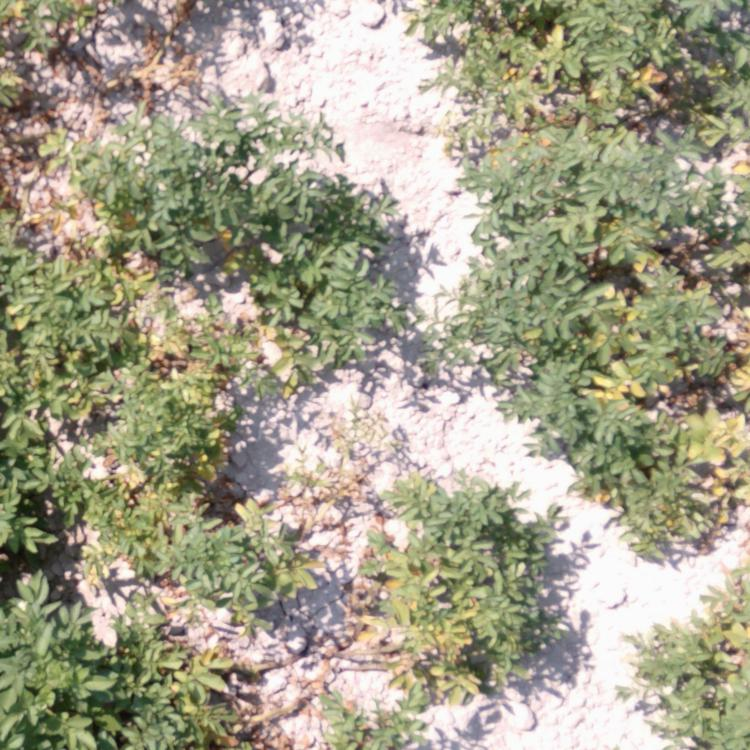healthy: (287, 164, 401, 325), (1, 591, 107, 750), (154, 103, 286, 220), (1, 430, 86, 563), (429, 280, 501, 380)
stressed: (357, 464, 563, 687), (404, 1, 750, 131), (457, 130, 750, 275), (500, 274, 750, 406), (154, 472, 335, 628), (128, 324, 267, 467), (114, 629, 272, 750), (1, 203, 147, 319), (629, 407, 747, 549), (3, 331, 129, 425), (1, 1, 91, 119), (517, 405, 618, 502), (639, 616, 720, 736), (149, 224, 278, 294), (42, 120, 148, 204), (314, 688, 444, 750), (96, 471, 154, 590), (717, 566, 750, 750), (270, 329, 366, 388)
